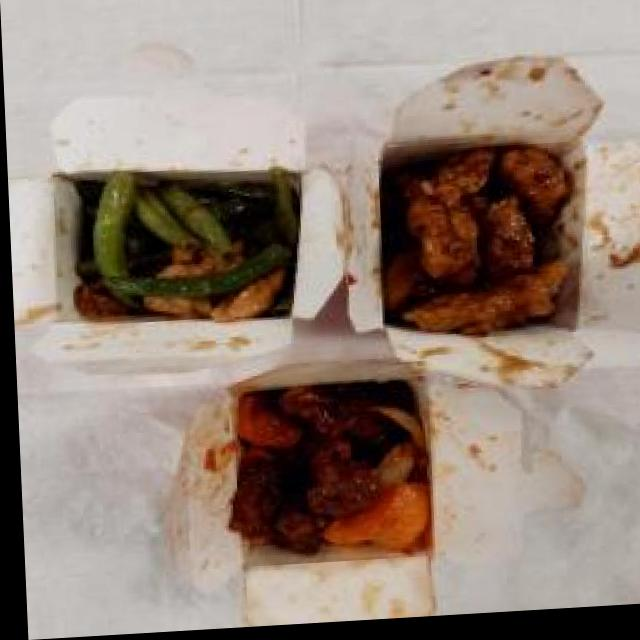Beijing Beef: (217, 376, 436, 569)
String Bean Chicken Breast: (61, 164, 305, 338)
The Original Orange Chicken: (369, 141, 586, 354)
